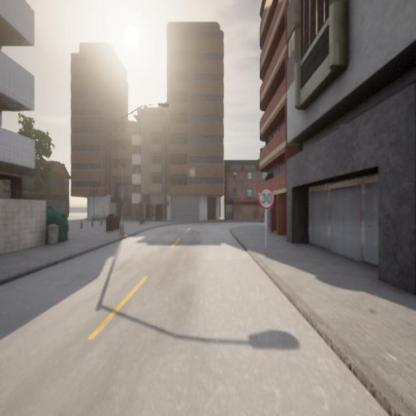traffic_sign_30: (259, 190, 275, 208)
